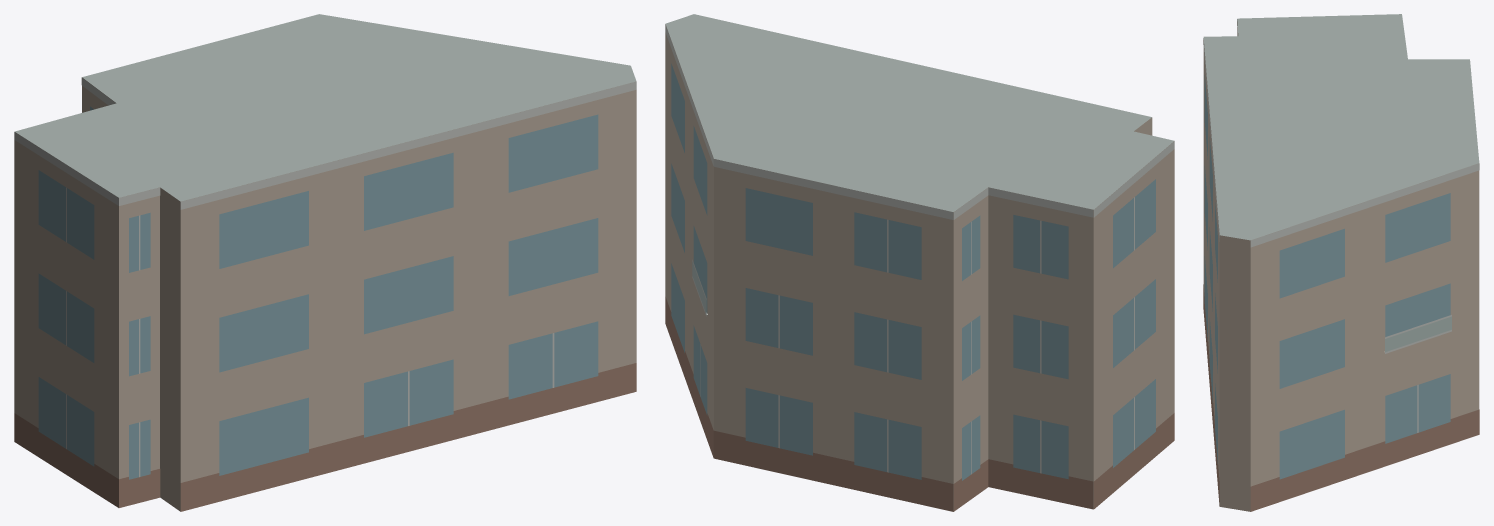
Rendered from survey-upis-32684067.glb.
3 renders of one model, left to right at view 1: azimuth 30°, elevation 25°; view 2: azimuth 150°, elevation 25°; view 3: azimuth 270°, elevation 25°, orthographic. The views are drawn at different scales.
Visible parts, largest first — view 1: survey-upis-32684067.tmp; view 2: survey-upis-32684067.tmp; view 3: survey-upis-32684067.tmp.
Boxes of the visible parts, x1,y1,x2,y2 form: survey-upis-32684067.tmp: (14, 14, 636, 511); survey-upis-32684067.tmp: (665, 14, 1174, 511); survey-upis-32684067.tmp: (1203, 14, 1479, 511).
Bounding box in the file's own units: 16.37 × 9.15 × 8.44.
